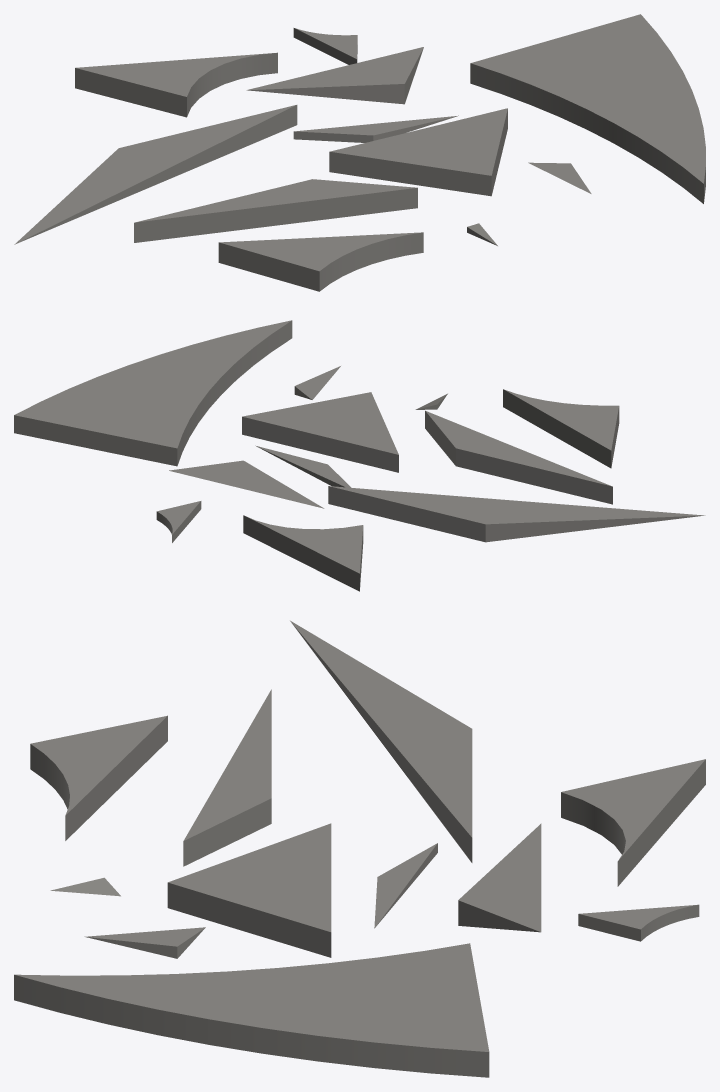
The model's file is GlassShards.FBX.
3 renders of one model, top to bottom at view 1: azimuth 30°, elevation 25°; view 2: azimuth 150°, elevation 25°; view 3: azimuth 270°, elevation 25°, orthographic. The views are drawn at different scales.
Visible parts, largest first — view 1: Box065, Box059, Box063, Box062, Box064, Box061, Box060, Box066, Box067, Box068; view 2: Box065, Box063, Box059, Box062, Box061, Box064, Box060, Box066, Box067, Box068; view 3: Box065, Box059, Box063, Box061, Box064, Box062, Box060, Box067, Box066, Box068.
Boxes of the visible parts, x1=… form: Box065: x1=470, y1=14, x2=705, y2=203; Box059: x1=329, y1=108, x2=507, y2=196; Box063: x1=14, y1=105, x2=297, y2=244; Box062: x1=134, y1=179, x2=417, y2=242; Box064: x1=218, y1=232, x2=423, y2=291; Box061: x1=75, y1=52, x2=277, y2=117; Box060: x1=246, y1=47, x2=423, y2=104; Box066: x1=293, y1=115, x2=458, y2=142; Box067: x1=293, y1=28, x2=357, y2=64; Box068: x1=528, y1=162, x2=591, y2=193; Box065: x1=14, y1=320, x2=292, y2=466; Box063: x1=328, y1=486, x2=705, y2=542; Box059: x1=242, y1=392, x2=398, y2=472; Box062: x1=425, y1=410, x2=612, y2=504; Box061: x1=243, y1=515, x2=363, y2=591; Box064: x1=503, y1=389, x2=619, y2=468; Box060: x1=169, y1=460, x2=324, y2=508; Box066: x1=255, y1=445, x2=351, y2=487; Box067: x1=156, y1=501, x2=201, y2=542; Box068: x1=294, y1=366, x2=340, y2=399; Box065: x1=14, y1=943, x2=489, y2=1077; Box059: x1=167, y1=823, x2=331, y2=957; Box063: x1=290, y1=620, x2=472, y2=862; Box061: x1=561, y1=759, x2=705, y2=886; Box064: x1=30, y1=715, x2=167, y2=840; Box062: x1=183, y1=689, x2=271, y2=866; Box060: x1=458, y1=823, x2=541, y2=932; Box067: x1=578, y1=904, x2=699, y2=941; Box066: x1=374, y1=843, x2=437, y2=928; Box068: x1=84, y1=927, x2=205, y2=958.
Size of the model in its own units: 114 by 4.07 by 77.48.
Materials: 1 (1 with a texture image).
